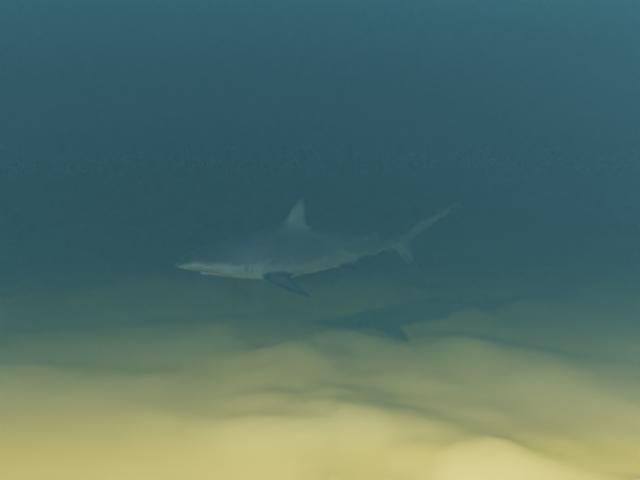Carribean Shark.001: (174, 196, 463, 297)
